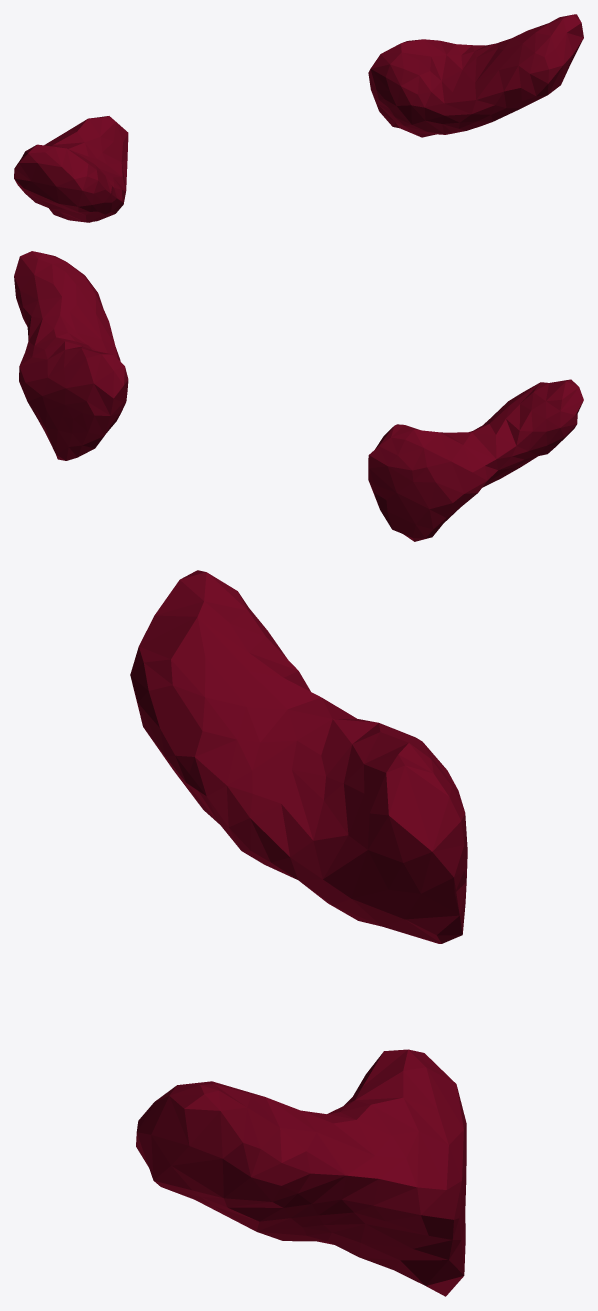
File: 91-ER-entorhinal cortex, rostral part-('0.4980', '0.0000', '0.1333').obj
The picture shows the model from 3 angles, top to bottom: view 1: azimuth 30°, elevation 25°; view 2: azimuth 150°, elevation 25°; view 3: azimuth 270°, elevation 25°; orthographic projection. The views are drawn at different scales.
Size of the model in its own units: 139 by 33.97 by 36.19.
